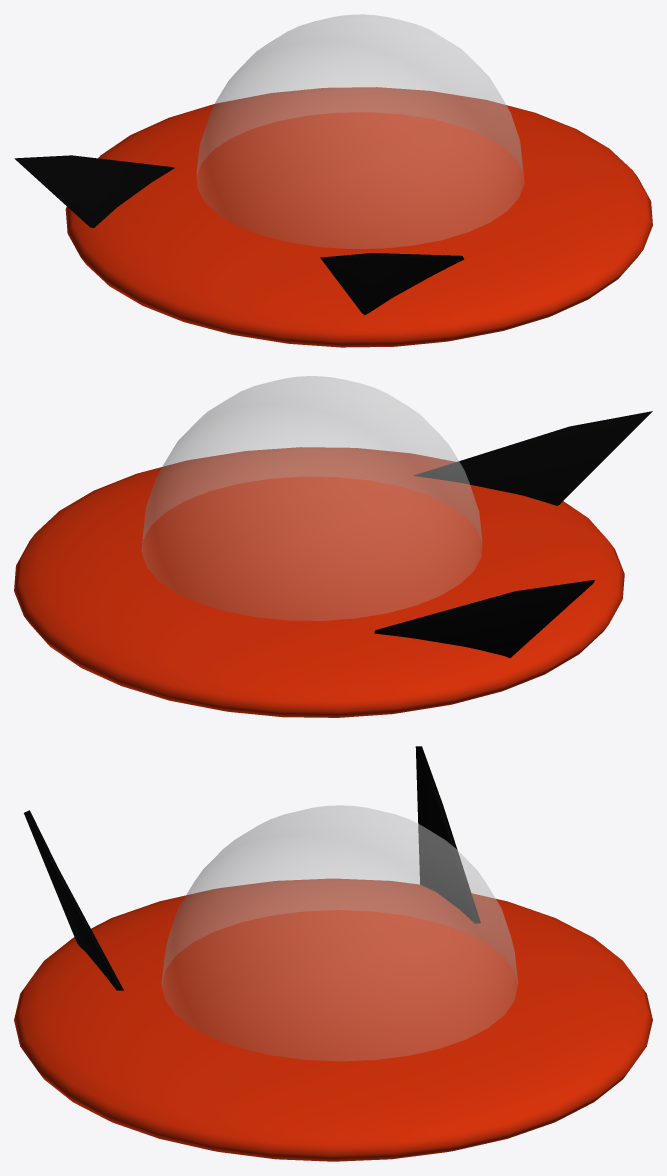
Rendered from ElizaShip.fbx.
3 renders of one model, top to bottom at view 1: azimuth 30°, elevation 25°; view 2: azimuth 150°, elevation 25°; view 3: azimuth 270°, elevation 25°, orthographic. The views are drawn at different scales.
Visible parts, largest first — view 1: Sphere, Sphere_001, Cube, Cube_001; view 2: Sphere, Sphere_001, Cube_001, Cube; view 3: Sphere, Sphere_001, Cube, Cube_001.
Boxes of the visible parts, <box> form: Sphere: <box>65,87,652,347</box>; Sphere_001: <box>196,14,524,248</box>; Cube: <box>14,155,174,227</box>; Cube_001: <box>320,253,464,315</box>; Sphere: <box>14,447,624,717</box>; Sphere_001: <box>141,376,482,620</box>; Cube_001: <box>413,411,652,505</box>; Cube: <box>374,580,594,657</box>; Sphere: <box>14,878,652,1161</box>; Sphere_001: <box>161,805,517,1060</box>; Cube: <box>415,746,480,923</box>; Cube_001: <box>24,810,123,990</box>.
Bounding box in the file's own units: 7.86 × 3.02 × 7.16.
